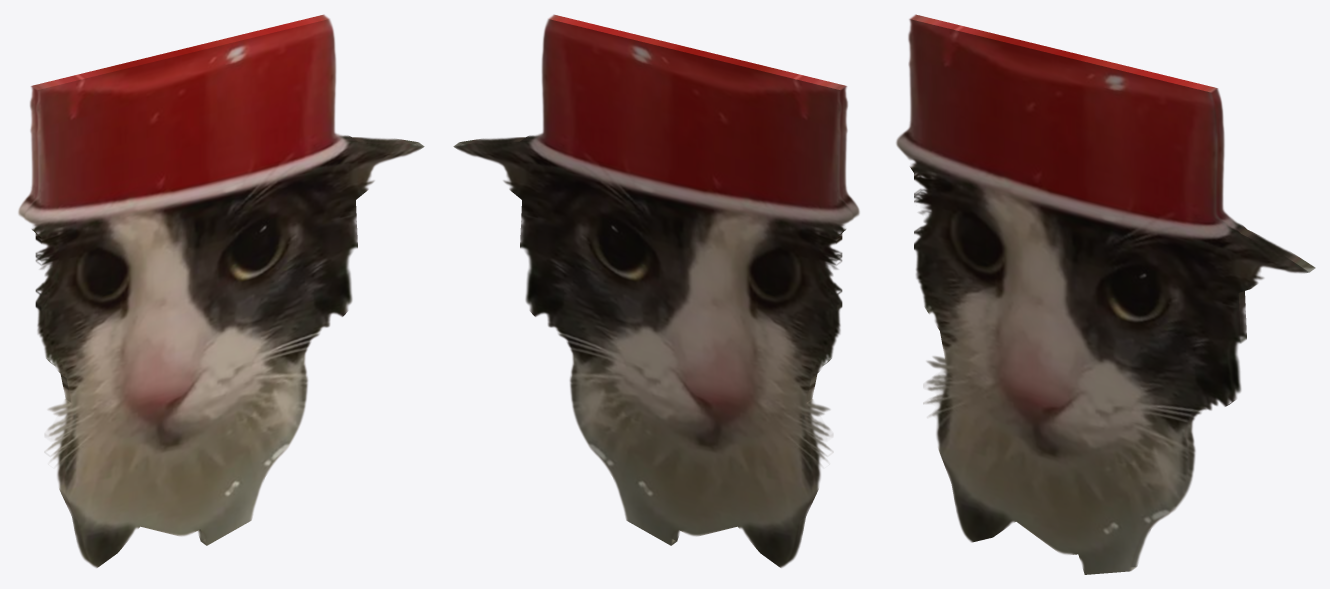
The model's file is sog3.glb.
The picture shows the model from 3 angles, left to right: view 1: azimuth 30°, elevation 25°; view 2: azimuth 150°, elevation 25°; view 3: azimuth 330°, elevation 25°; orthographic projection. The views are drawn at different scales.
Parts seen in each view (by area): view 1: sog5-removebg-preview; view 2: sog5-removebg-preview; view 3: sog5-removebg-preview.
Boxes of the visible parts, <box> form: sog5-removebg-preview: <box>18,14,424,567</box>; sog5-removebg-preview: <box>453,14,859,567</box>; sog5-removebg-preview: <box>896,14,1315,574</box>.
Bounding box in the file's own units: 0.8519 × 1 × 0.0217.
Materials: 1 (1 with a texture image).
